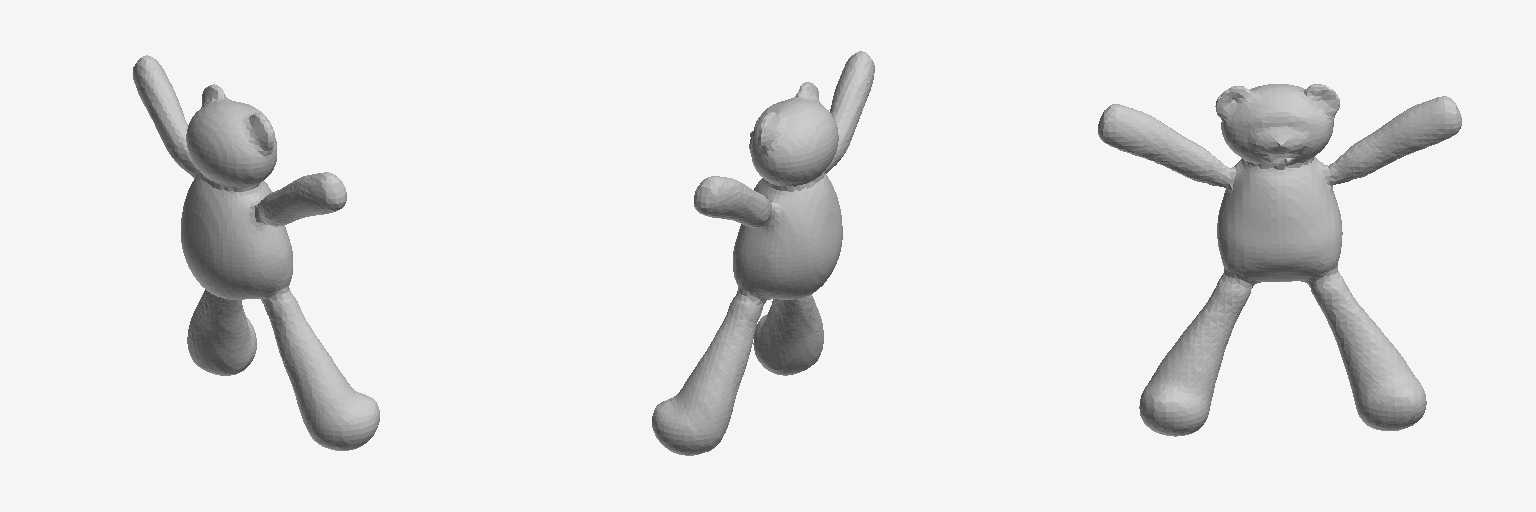
Rendered from teddy_scaled.obj.
The picture shows the model from 3 angles: view 1: azimuth 30°, elevation 25°; view 2: azimuth 150°, elevation 25°; view 3: azimuth 270°, elevation 25°; orthographic projection.
Bounding box in the file's own units: 40.92 × 97.48 × 100.